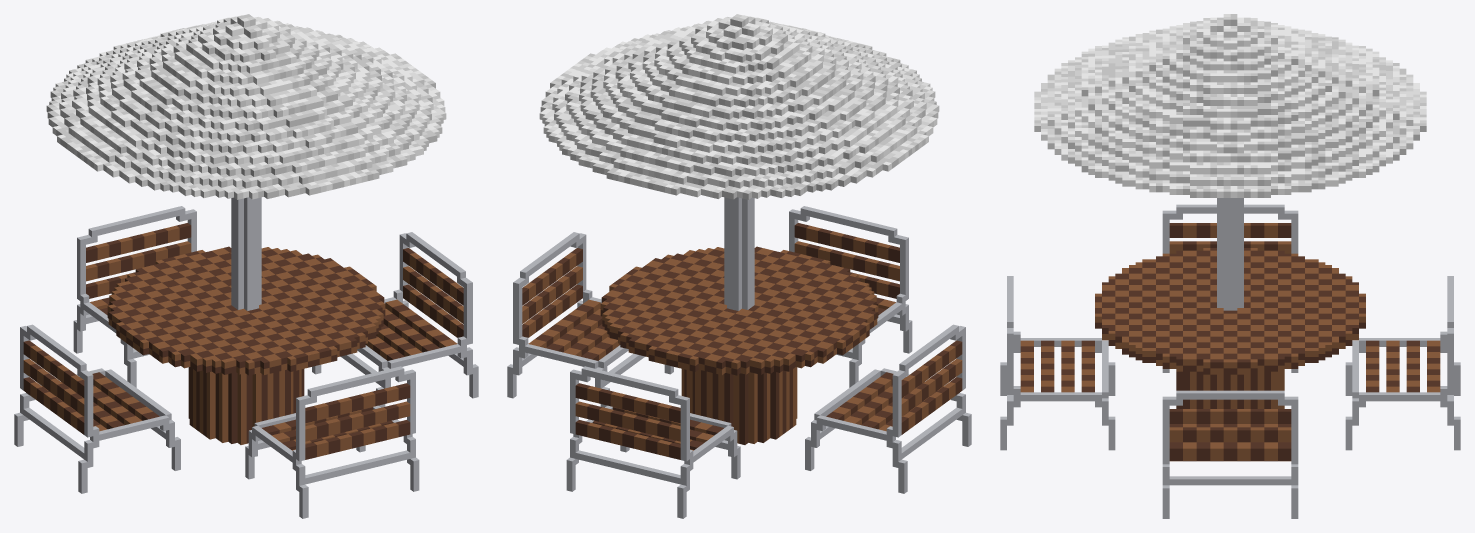
File: parasol.fbx
The picture shows the model from 3 angles, left to right: view 1: azimuth 30°, elevation 25°; view 2: azimuth 150°, elevation 25°; view 3: azimuth 270°, elevation 25°; orthographic projection.
Parts seen in each view (by area): view 1: base, canopy; view 2: base, canopy; view 3: base, canopy.
Boxes of the visible parts, box(x1,y1,x2,y2) form: base: box(14, 197, 478, 518); canopy: box(46, 14, 446, 199); base: box(507, 197, 971, 518); canopy: box(539, 14, 939, 199); base: box(1000, 198, 1460, 518); canopy: box(1034, 14, 1426, 197).
Size of the model in its own units: 2.78 by 2.7 by 2.78.
Materials: 2 (2 with a texture image).
